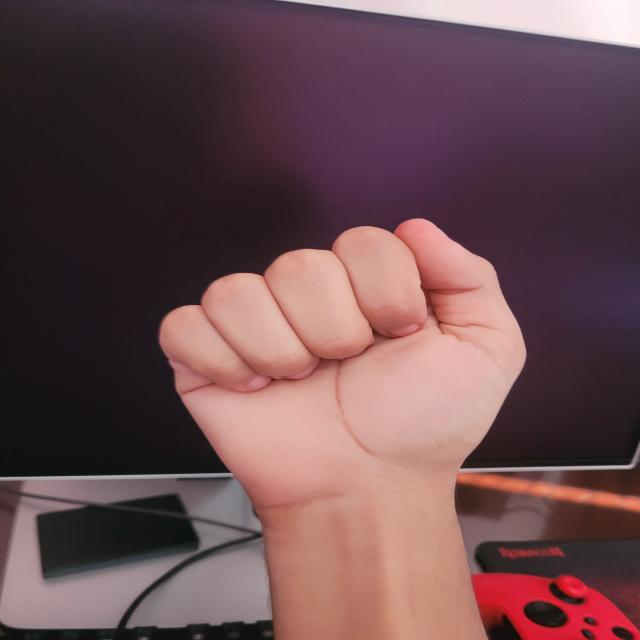Closed Hand: (156, 218, 530, 506)
